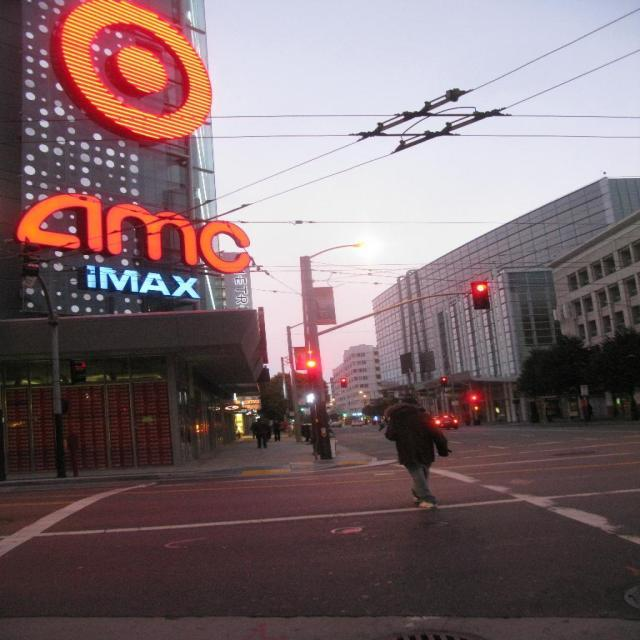off traffic light: (67, 358, 85, 383)
traffic light: (471, 280, 490, 309)
